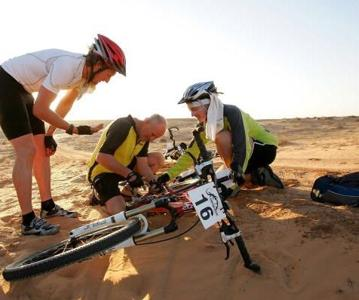person: (86, 114, 168, 216)
